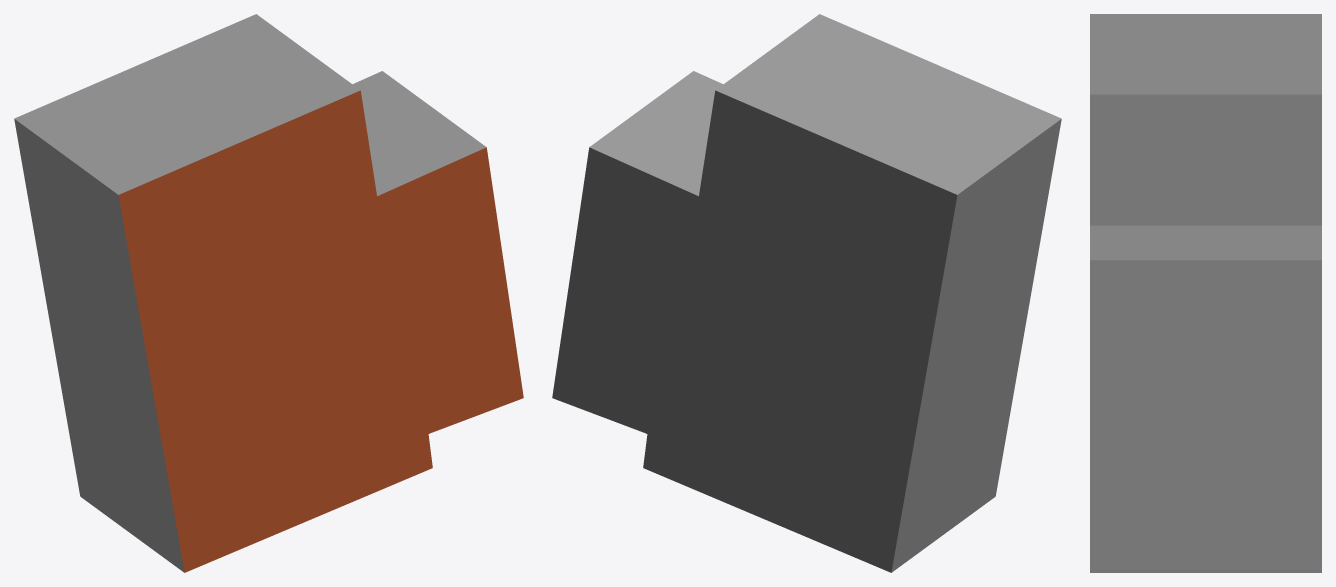
Rendered from construction_3908_assumed_A_Casa_h6m.obj.
The picture shows the model from 3 angles, left to right: view 1: azimuth 30°, elevation 25°; view 2: azimuth 150°, elevation 25°; view 3: azimuth 270°, elevation 25°; orthographic projection. The views are drawn at different scales.
Visible parts, largest first — view 1: construction_3908_assumed_A_Casa; view 2: construction_3908_assumed_A_Casa; view 3: construction_3908_assumed_A_Casa.
Boxes of the visible parts, bbox=[...] form: construction_3908_assumed_A_Casa: bbox=[14, 14, 523, 572]; construction_3908_assumed_A_Casa: bbox=[552, 14, 1061, 572]; construction_3908_assumed_A_Casa: bbox=[1090, 14, 1321, 572].
Bounding box in the file's own units: 13.45 × 13.94 × 6.
